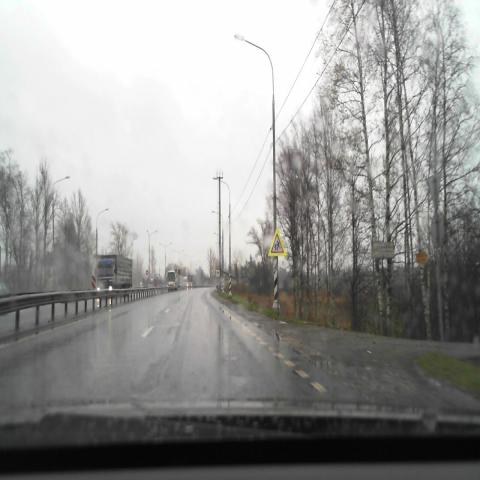1_23: (268, 228, 287, 256)
